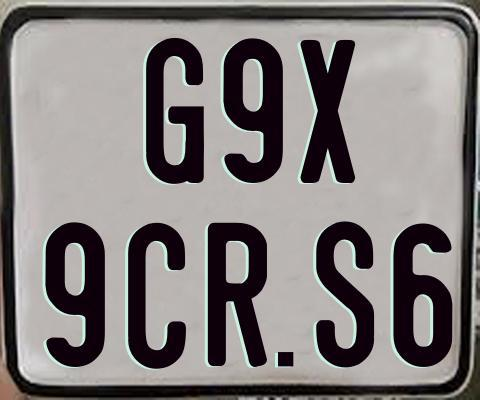6: (391, 221, 453, 365)
9: (222, 38, 284, 189), (45, 222, 108, 367)
C: (128, 222, 191, 372)
G: (144, 38, 202, 188)
R: (205, 223, 264, 372)
S: (315, 220, 373, 367)
X: (300, 40, 355, 183)
